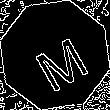M_NW: (23, 22, 87, 88)
